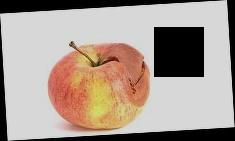rotten apple: (41, 38, 160, 131)
